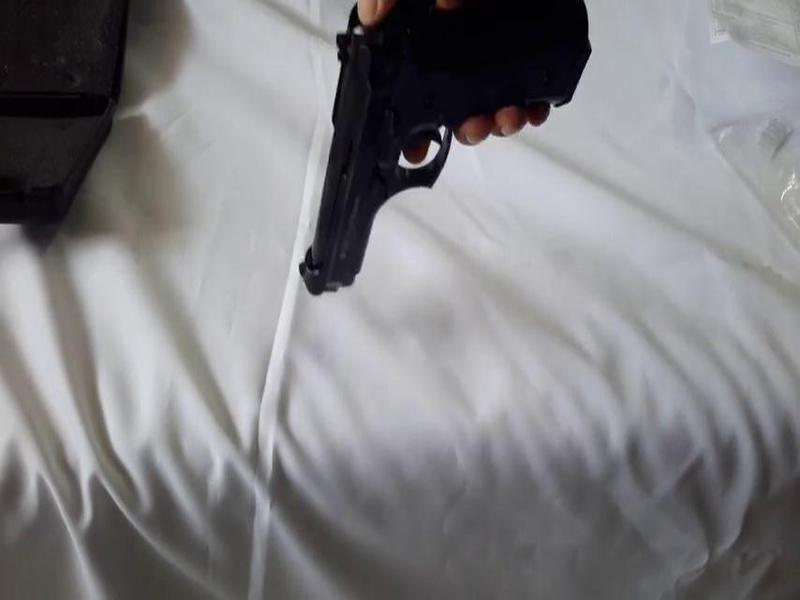Pistola: (297, 1, 588, 304)
